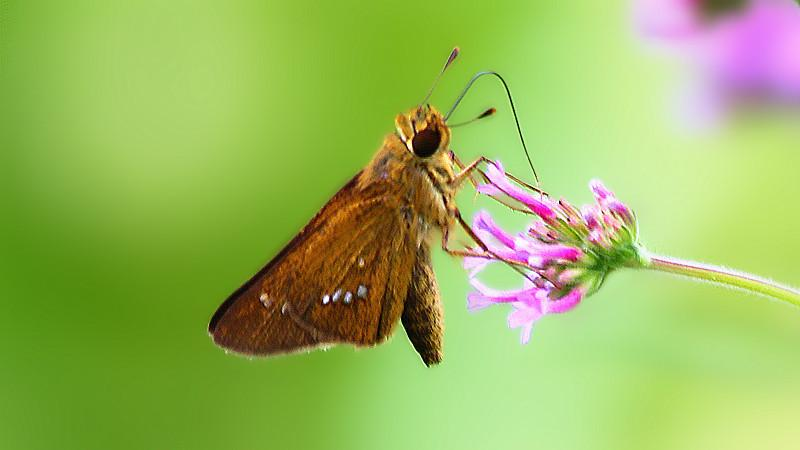Hesperiidae: (200, 38, 540, 373)
